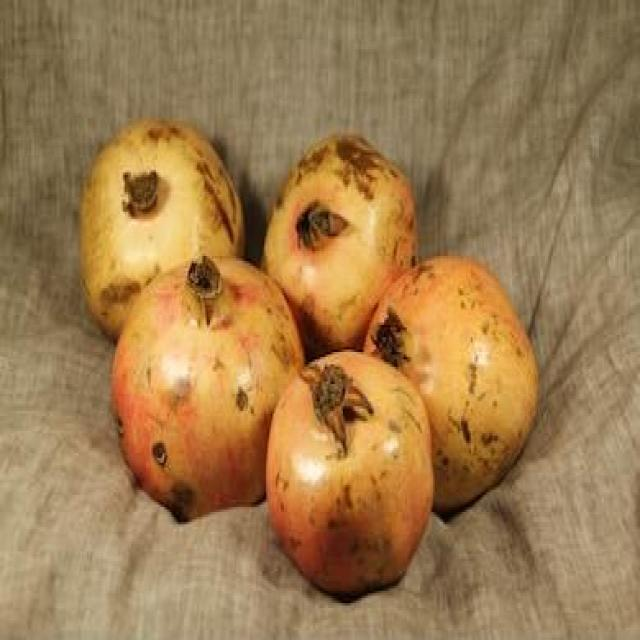overripe: (111, 254, 306, 519), (269, 341, 437, 602), (368, 255, 540, 508), (262, 134, 421, 344), (72, 114, 247, 267)
